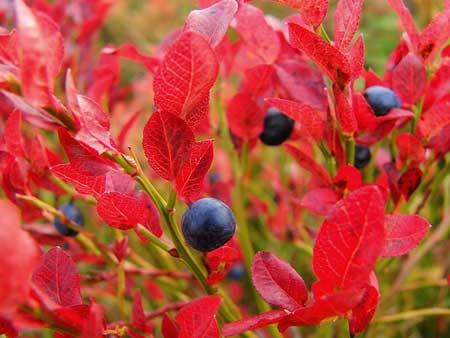Blueberry leaf: (313, 179, 393, 294), (154, 26, 226, 127), (134, 101, 203, 191), (242, 243, 320, 318), (25, 239, 87, 330), (287, 17, 351, 98), (259, 87, 332, 150), (98, 187, 157, 245), (174, 142, 226, 198), (161, 293, 223, 334), (393, 50, 433, 106)
